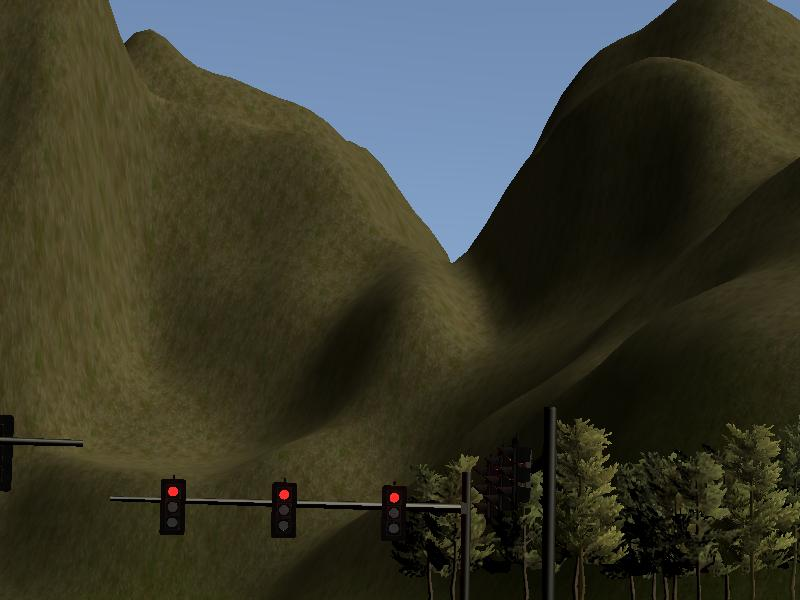red: (159, 479, 187, 535), (269, 482, 297, 538), (380, 485, 408, 541)
